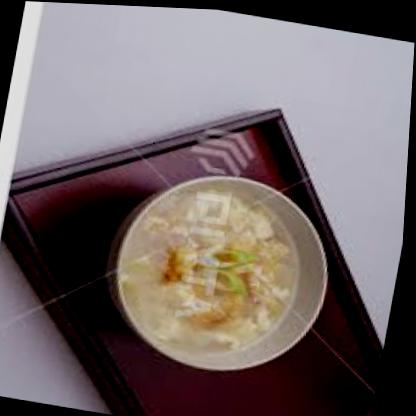dried pollack soup: (106, 173, 324, 363)
